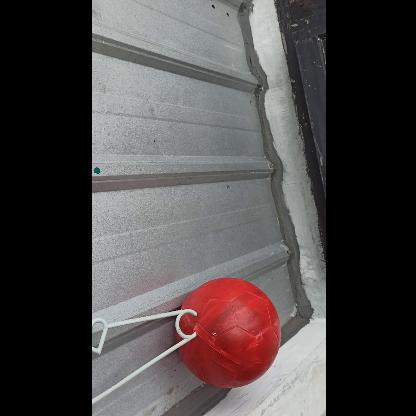red_ball: (172, 278, 282, 387)
